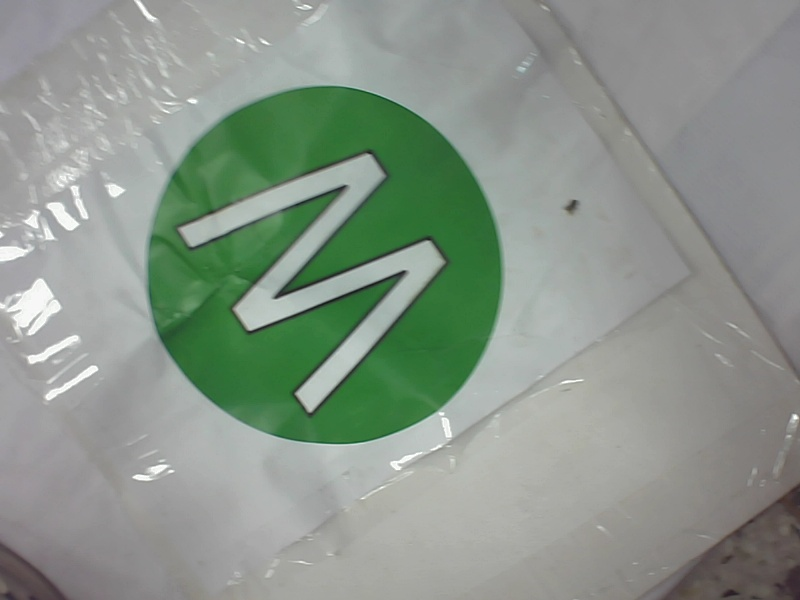areaB: (136, 79, 507, 452)
